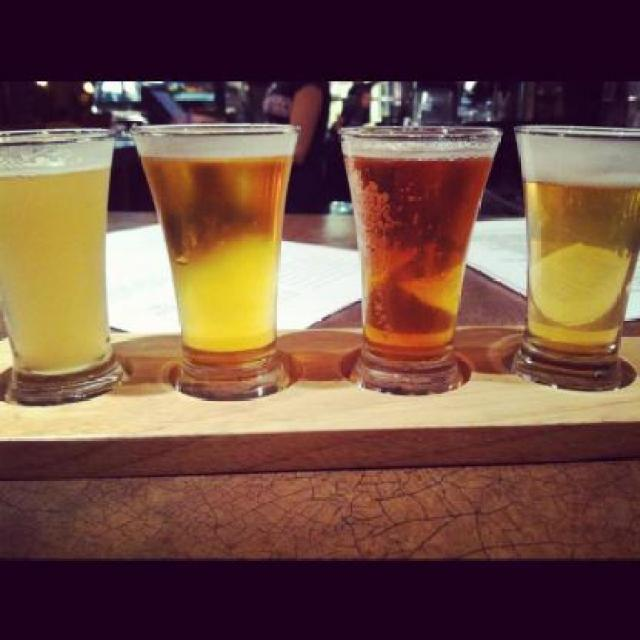Juice: (10, 100, 119, 394)
